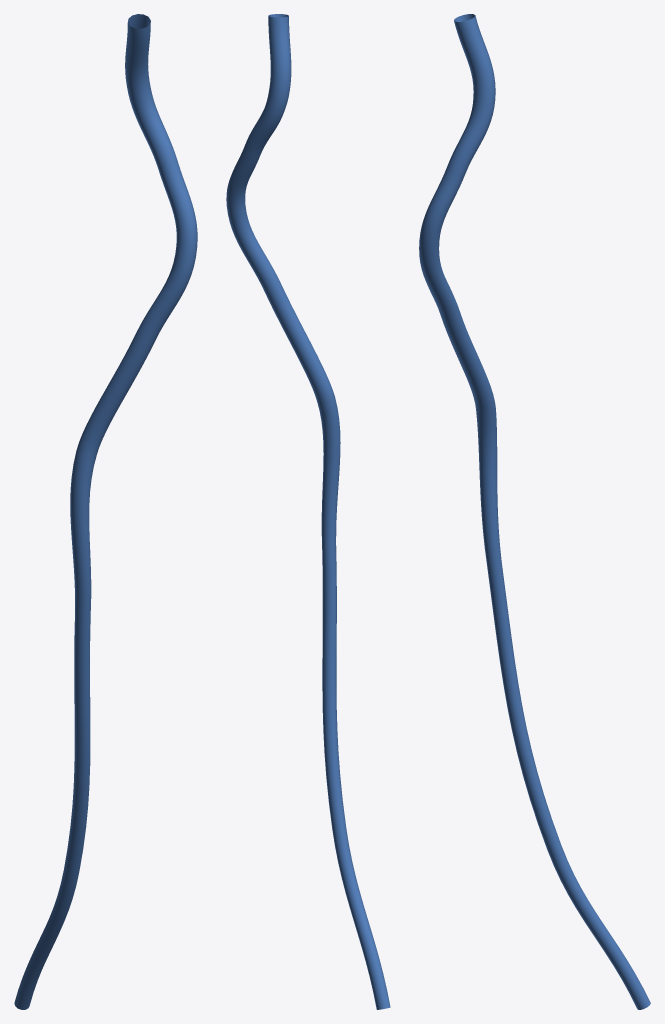
The picture shows the model from 3 angles, left to right: view 1: azimuth 30°, elevation 25°; view 2: azimuth 210°, elevation 25°; view 3: azimuth 270°, elevation 25°; orthographic projection. The views are drawn at different scales.
Visible parts, largest first — view 1: 左侧足底内侧静脉; view 2: 左侧足底内侧静脉; view 3: 左侧足底内侧静脉.
Part boxes in pixels (bbox=[...]): 左侧足底内侧静脉: bbox=[14, 14, 197, 1009]; 左侧足底内侧静脉: bbox=[226, 14, 390, 1009]; 左侧足底内侧静脉: bbox=[419, 14, 650, 1009].
Size of the model in its own units: 0.0139 by 0.147 by 0.0308.
